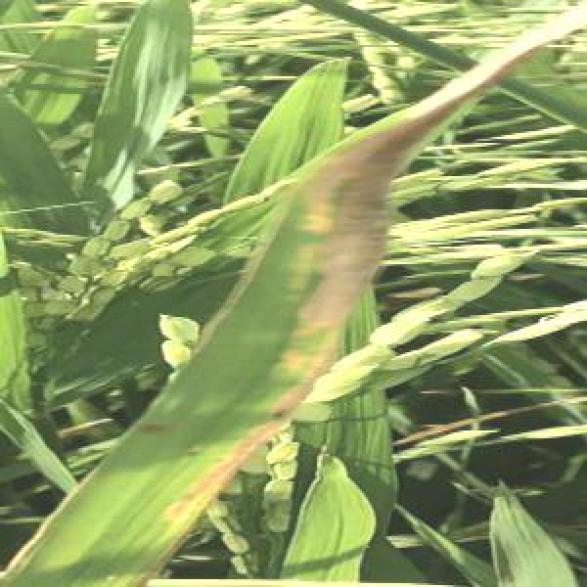Bacteria_Leaf_Blight: (214, 139, 384, 364)
